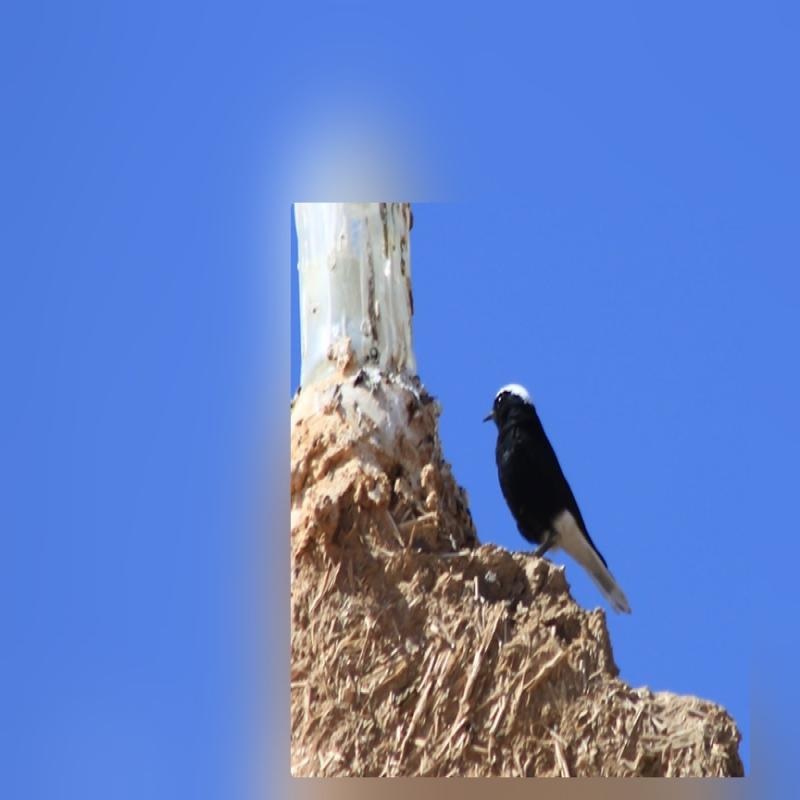white-crowned wheatear: (475, 377, 649, 625)
